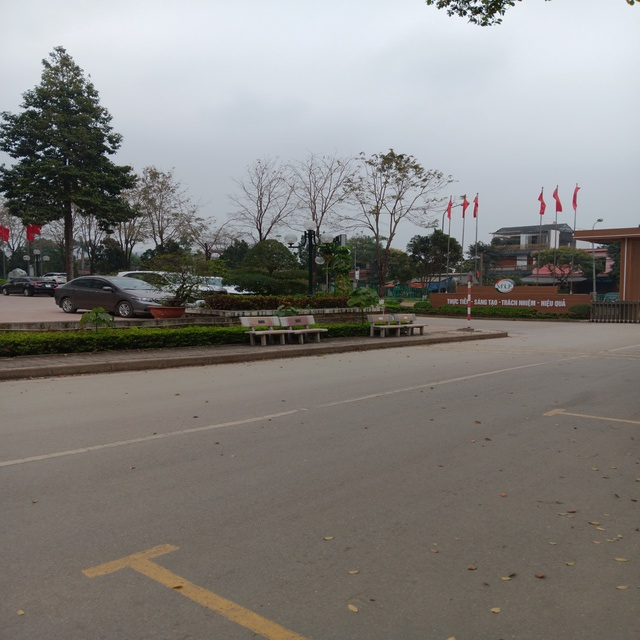gheda: (273, 310, 334, 346), (232, 317, 288, 351), (386, 306, 432, 341), (365, 310, 405, 348)
